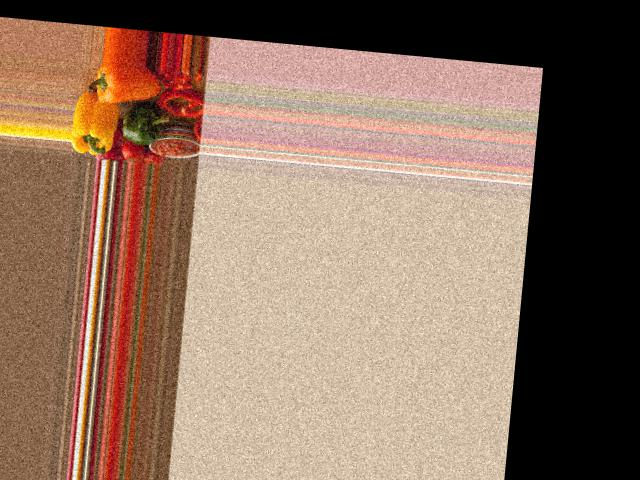bell_pepper: (70, 101, 120, 156)
